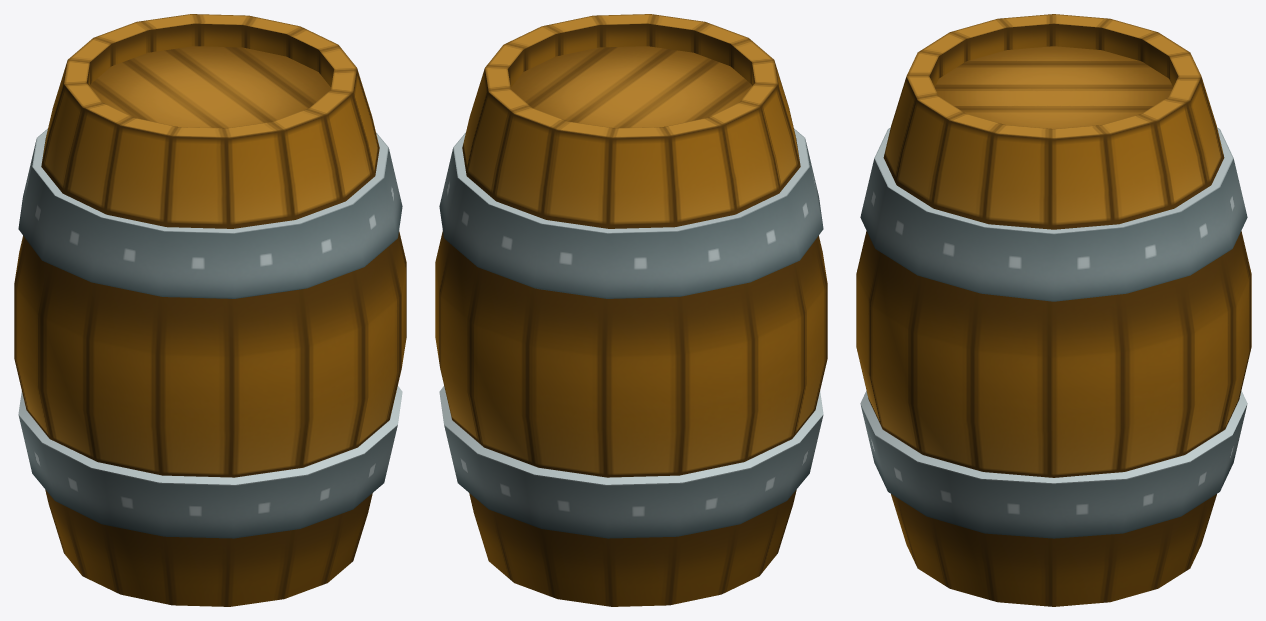
File: Mesh_Tonneau01.fbx
3 views of the same model, side by side, from view 1: azimuth 30°, elevation 25°; view 2: azimuth 150°, elevation 25°; view 3: azimuth 270°, elevation 25° (orthographic).
Parts seen in each view (by area): view 1: Mesh_Tonneau01; view 2: Mesh_Tonneau01; view 3: Mesh_Tonneau01.
Boxes of the visible parts, box(x1,y1,x2,y2) form: Mesh_Tonneau01: box(14, 14, 406, 606); Mesh_Tonneau01: box(435, 14, 827, 606); Mesh_Tonneau01: box(856, 14, 1251, 606).
Bounding box in the file's own units: 0.7881 × 1.03 × 0.7881.
